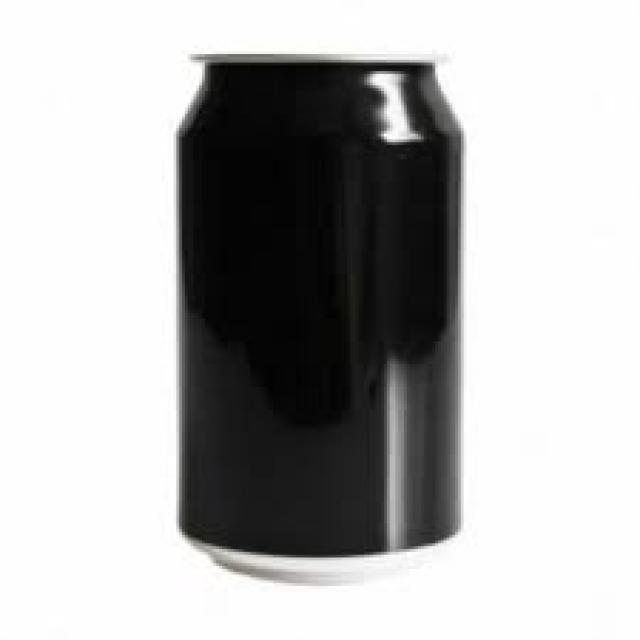recyclable: (170, 43, 482, 594)
